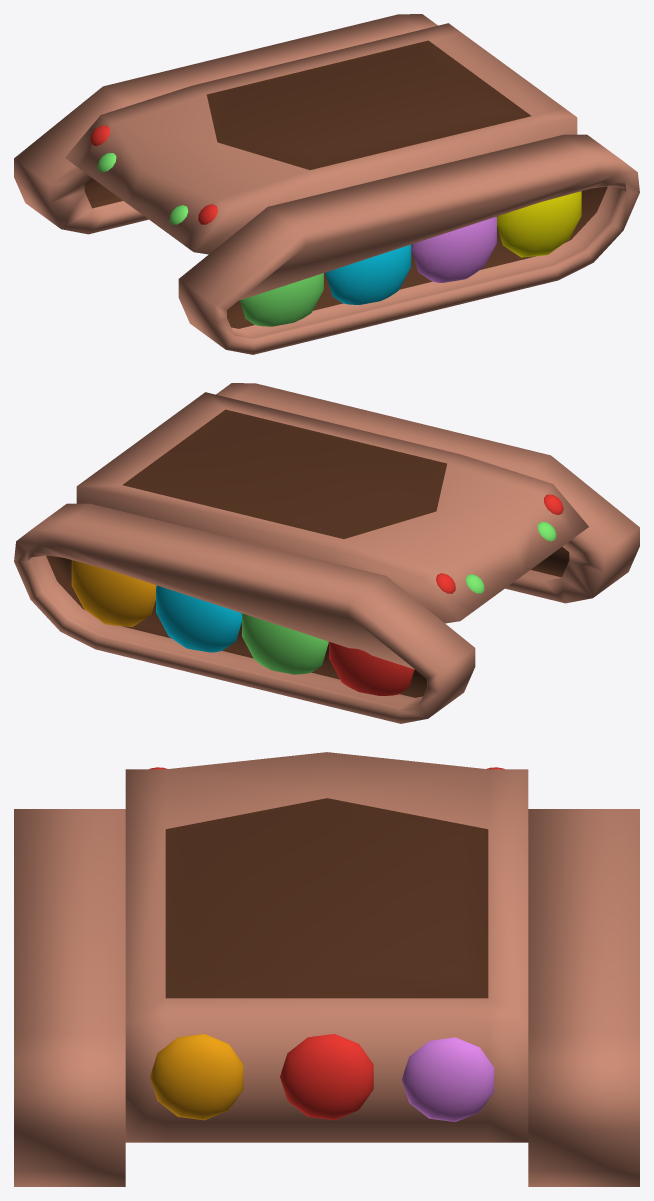
Rendered from tankbottom.glb.
3 renders of one model, top to bottom at view 1: azimuth 30°, elevation 25°; view 2: azimuth 150°, elevation 25°; view 3: azimuth 270°, elevation 25°, orthographic. The views are drawn at different scales.
Parts seen in each view (by area): view 1: Plane.007; view 2: Plane.007; view 3: Plane.007.
Boxes of the visible parts, left/top/right/bottom form: Plane.007: left=14, top=14, right=639, bottom=354; Plane.007: left=14, top=383, right=639, bottom=723; Plane.007: left=14, top=752, right=639, bottom=1186.
Bounding box in the file's own units: 2.52 × 0.7303 × 2.06.
